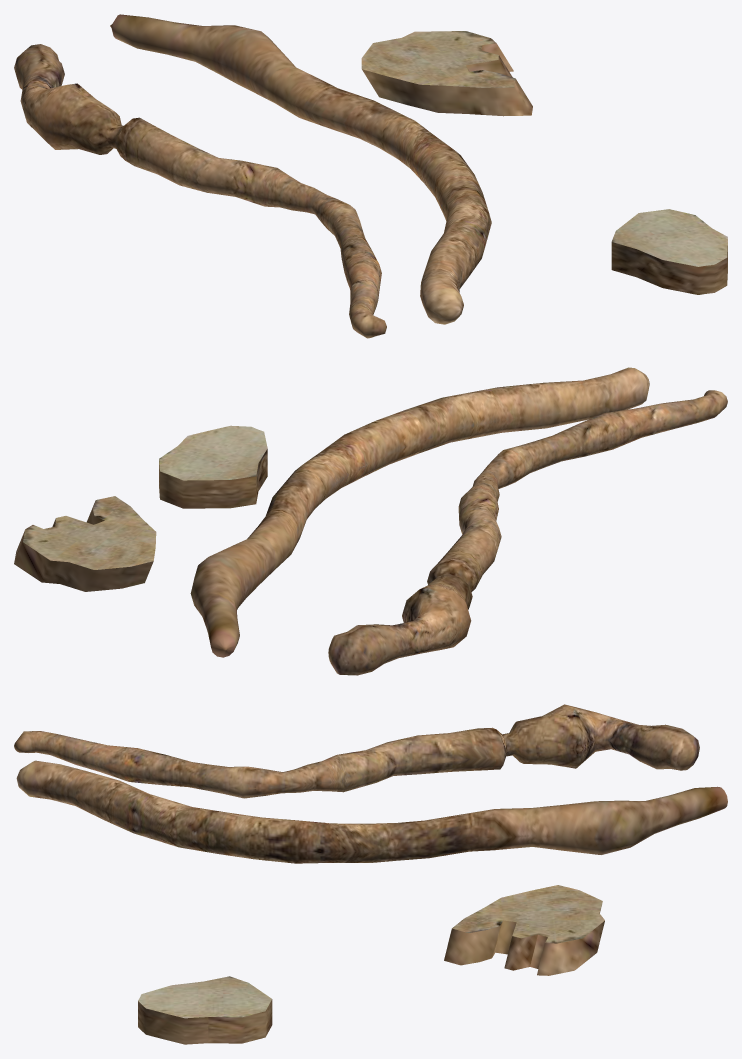
File: shichangpu.FBX
3 renders of one model, top to bottom at view 1: azimuth 30°, elevation 25°; view 2: azimuth 150°, elevation 25°; view 3: azimuth 270°, elevation 25°, orthographic. The views are drawn at different scales.
Visible parts, largest first — view 1: Cylinder001, Cylinder002, Line001, Line002; view 2: Cylinder001, Cylinder002, Line001, Line002; view 3: Cylinder001, Cylinder002, Line001, Line002.
Boxes of the visible parts, left/top/right/bottom form: Cylinder001: left=110, top=14, right=491, bottom=324; Cylinder002: left=14, top=44, right=386, bottom=338; Line001: left=361, top=31, right=532, bottom=116; Line002: left=611, top=209, right=727, bottom=294; Cylinder001: left=190, top=367, right=649, bottom=657; Cylinder002: left=328, top=390, right=727, bottom=675; Line001: left=14, top=496, right=156, bottom=591; Line002: left=159, top=425, right=267, bottom=508; Cylinder001: left=16, top=760, right=727, bottom=863; Cylinder002: left=14, top=704, right=699, bottom=798; Line001: left=444, top=885, right=604, bottom=975; Line002: left=138, top=976, right=272, bottom=1044.
Bounding box in the file's own units: 0.3592 × 0.0994 × 0.4925.
1 material, 1 textured.
